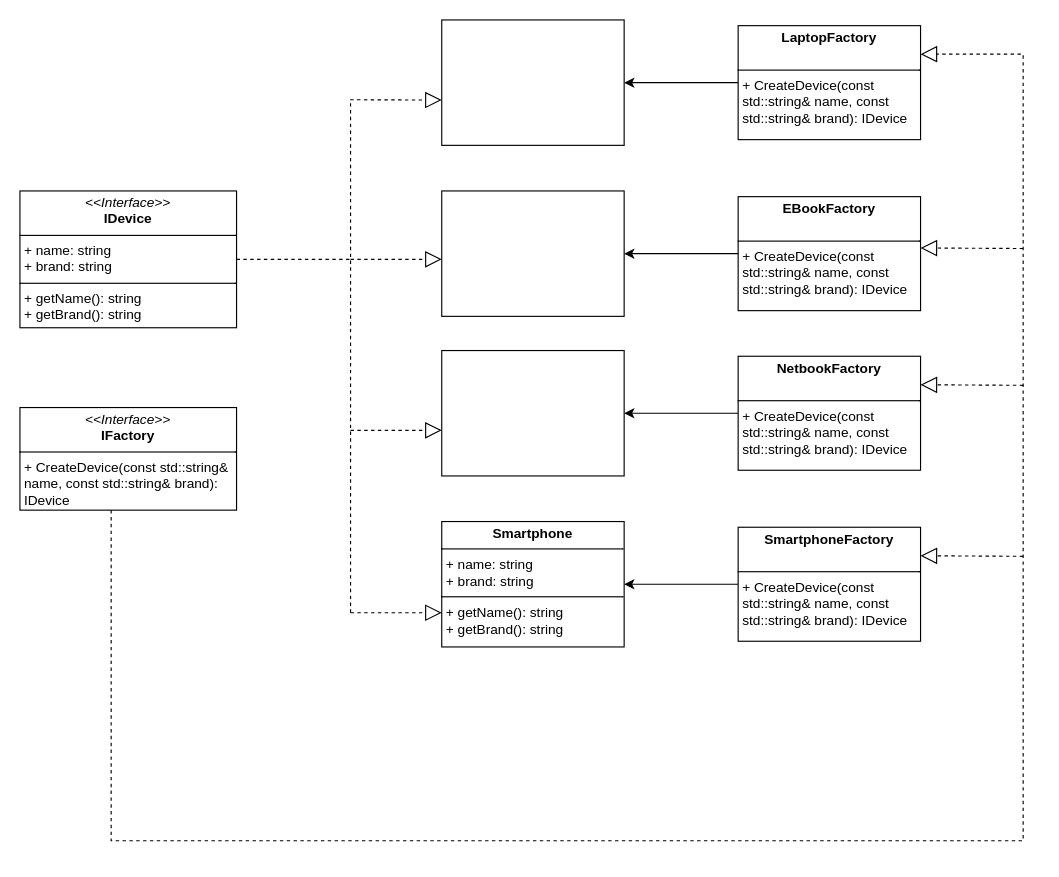
Some shapes in this 1059 by 877 pixel diagram are drawn without their labels. The shapes that lost their labels are listed below. From the top down, each one's centre as x and y in pixels, then its label:
At pixel 532 82: "Laptop + name: string + brand: string + getName(): string + getBrand(): string".
At pixel 532 253: "EBook + name: string + brand: string + getName(): string + getBrand(): string".
At pixel 532 412: "Netbook + name: string + brand: string + getName(): string + getBrand(): string".
